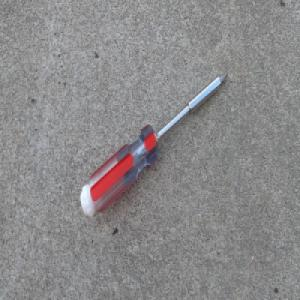Screwdriver: (78, 70, 229, 220)
